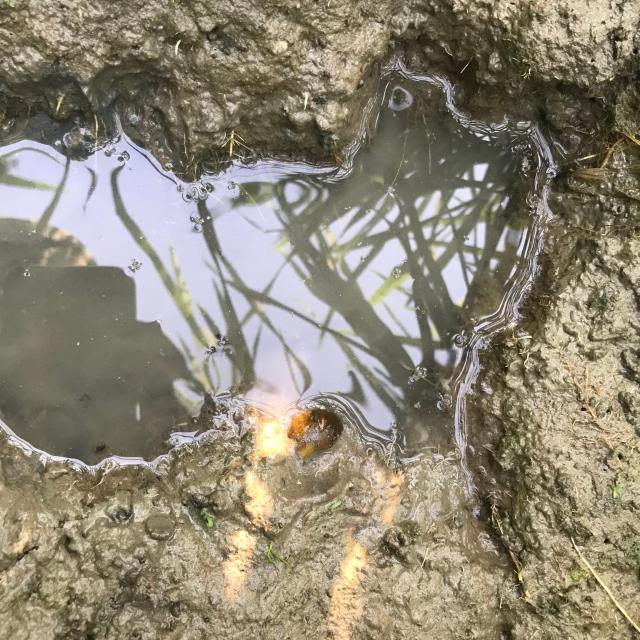rice bug -hama padi-: (244, 373, 364, 478)
